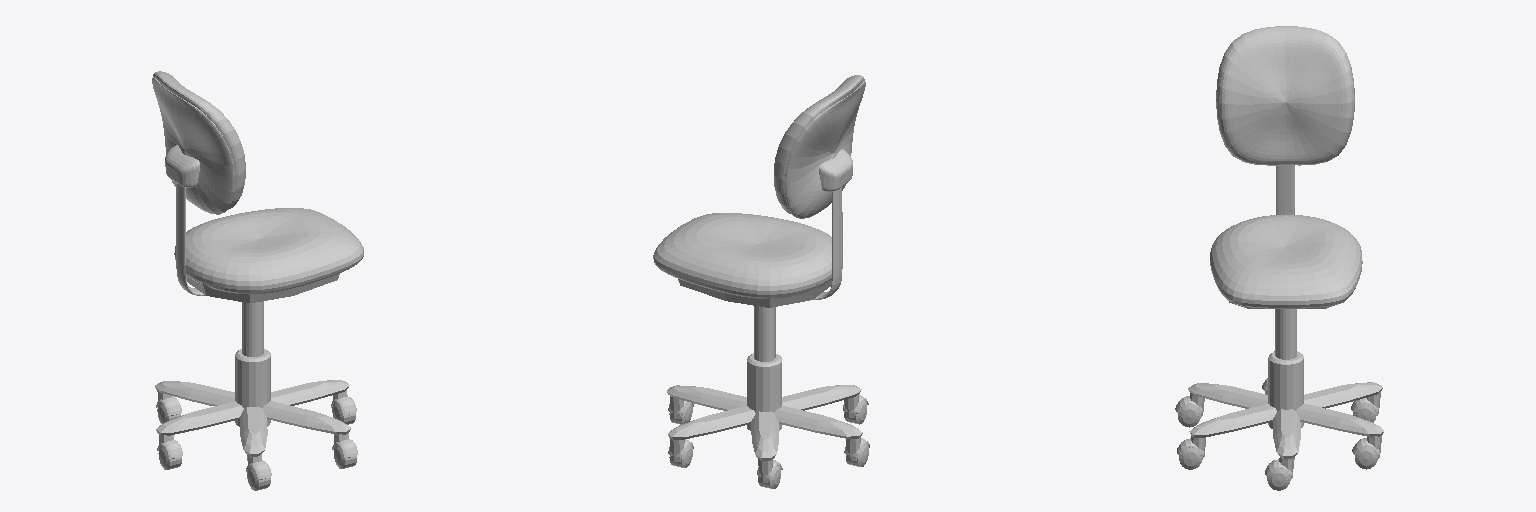
File: IVRC Chair.obj
3 views of the same model, side by side, from view 1: azimuth 30°, elevation 25°; view 2: azimuth 150°, elevation 25°; view 3: azimuth 270°, elevation 25° (orthographic).
Parts seen in each view (by area): view 1: isu pSphere2, isu pSphere3, isu pCube64, isu pCube62, isu pSphere4, pCylinder9 isu, isu pCube63, isu pCylinder10, isu pSphere1, isu pCube66, isu pCube67; view 2: isu pSphere2, isu pSphere3, isu pCube62, isu pCube63, isu pSphere4, pCylinder9 isu, isu pCylinder10, isu pCube64, isu pCube66, isu pSphere1, isu pCube67; view 3: isu pSphere4, isu pSphere2, isu pCube63, isu pCube64, pCylinder9 isu, isu pCube62, isu pCylinder10, isu pCube66.
Boxes of the visible parts, box(x1,y1,x2,y2) form: isu pSphere2: box(174, 208, 363, 293); isu pSphere3: box(152, 77, 234, 214); isu pCube64: box(155, 381, 350, 434); isu pCube62: box(156, 380, 349, 435); isu pSphere4: box(153, 71, 245, 209); pCylinder9 isu: box(235, 349, 270, 426); isu pCube63: box(239, 407, 267, 456); isu pCylinder10: box(242, 301, 263, 356); isu pSphere1: box(186, 273, 339, 302); isu pCube66: box(176, 183, 205, 295); isu pCube67: box(165, 145, 199, 187); isu pSphere2: box(653, 213, 831, 298); isu pSphere3: box(785, 81, 865, 218); isu pCube62: box(667, 385, 862, 438); isu pCube63: box(668, 385, 861, 439); isu pSphere4: box(774, 75, 864, 213); pCylinder9 isu: box(747, 353, 781, 430); isu pCylinder10: box(754, 306, 775, 361); isu pCube64: box(751, 411, 778, 460); isu pCube66: box(813, 187, 842, 299); isu pSphere1: box(678, 279, 831, 307); isu pCube67: box(819, 149, 852, 191); isu pSphere4: box(1216, 26, 1354, 165); isu pSphere2: box(1210, 214, 1362, 308); isu pCube63: box(1188, 383, 1383, 436); isu pCube64: box(1189, 382, 1382, 437); pCylinder9 isu: box(1268, 351, 1303, 428); isu pCube62: box(1273, 409, 1300, 458); isu pCylinder10: box(1275, 309, 1296, 359); isu pCube66: box(1276, 165, 1294, 214).
Bounding box in the file's own units: 3.77 × 7.08 × 3.55.